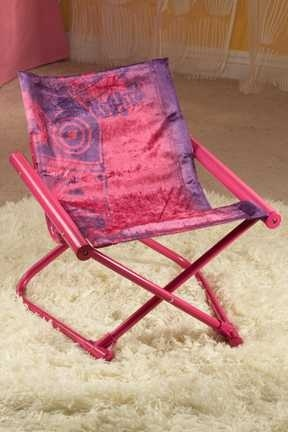obstacle: (10, 58, 280, 359)
